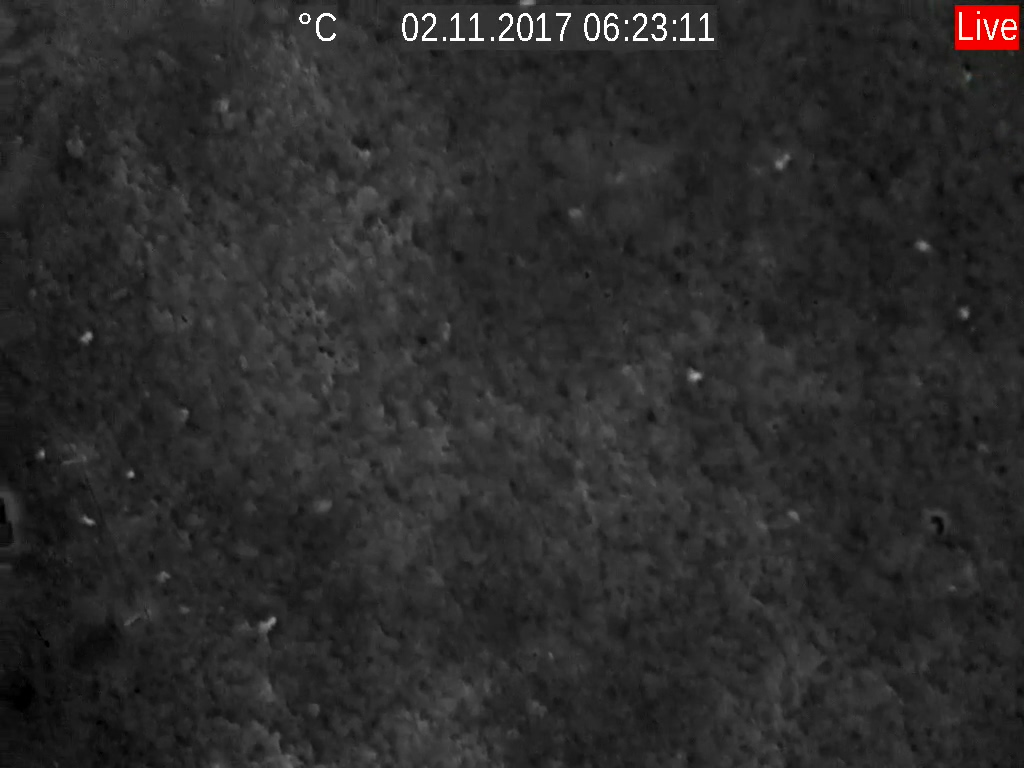warren: (249, 605, 278, 636), (684, 361, 712, 389), (771, 144, 795, 172), (76, 510, 99, 531), (76, 327, 98, 346)
